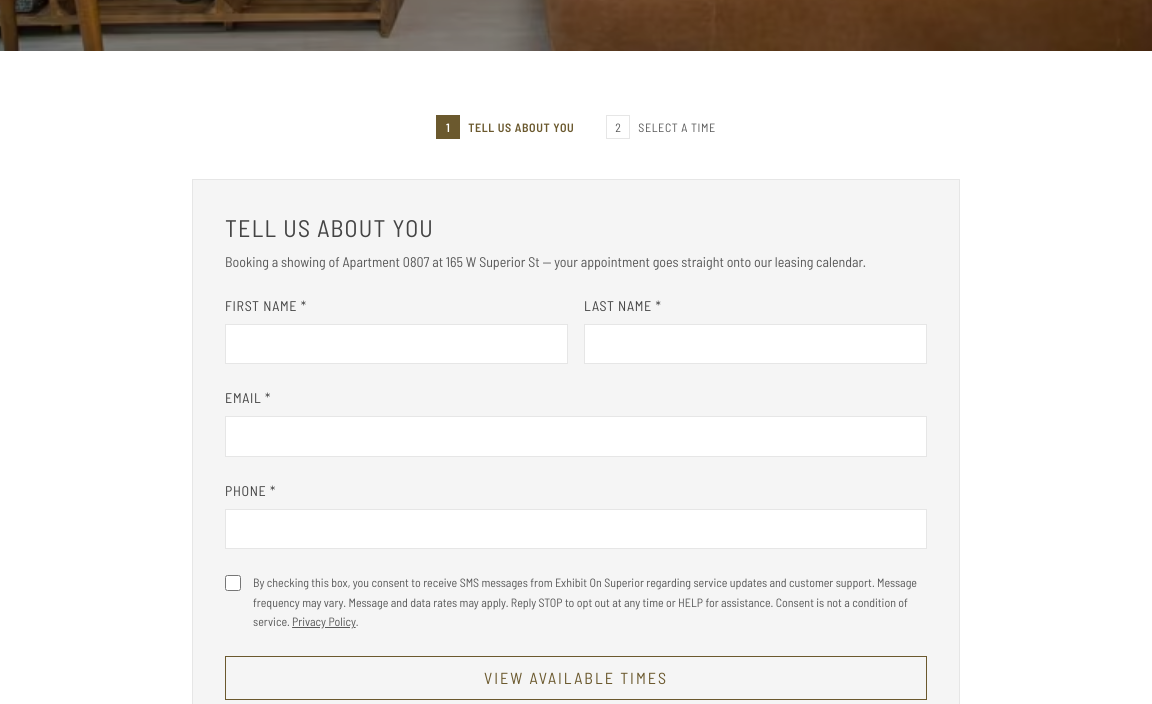
ScheduleShowing later booking steps label-in-name (WCAG 2.5.3) › unit gone — no-longer-available notice
(page scrolled)
In the field labelled "First Name *": (396,344) left=225, top=324, right=568, bottom=364, type "Ada"
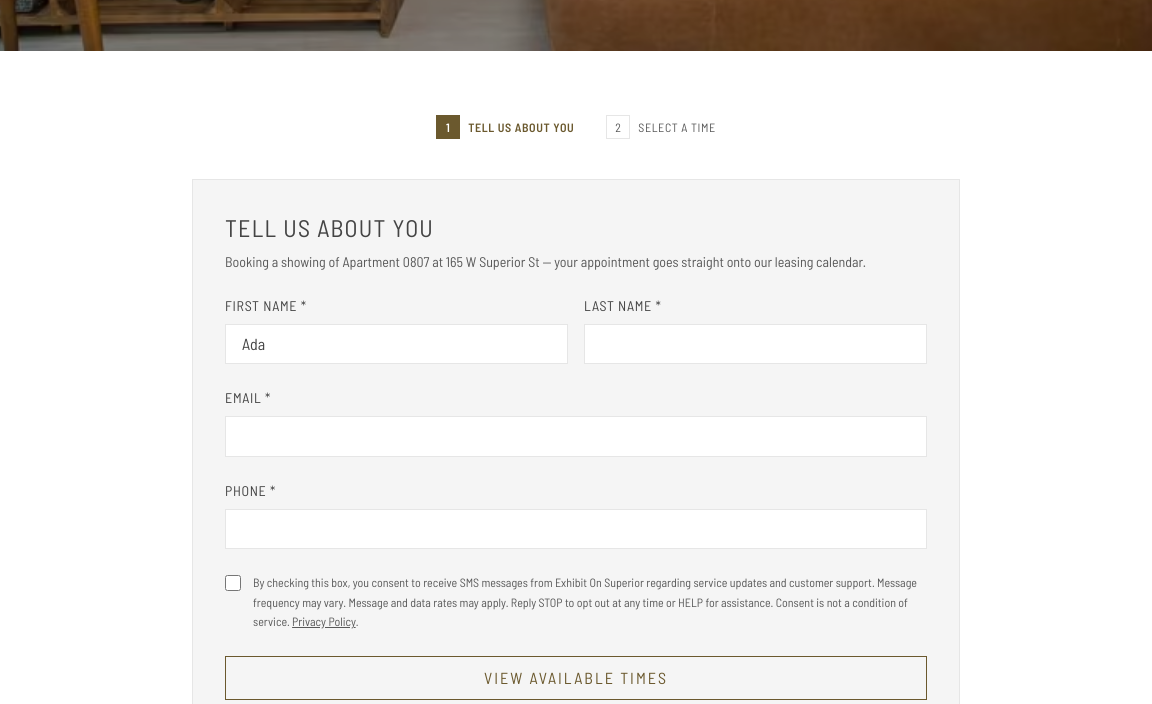
In the field labelled "Last Name *": (756,344) left=584, top=324, right=927, bottom=364, type "Lovelace"
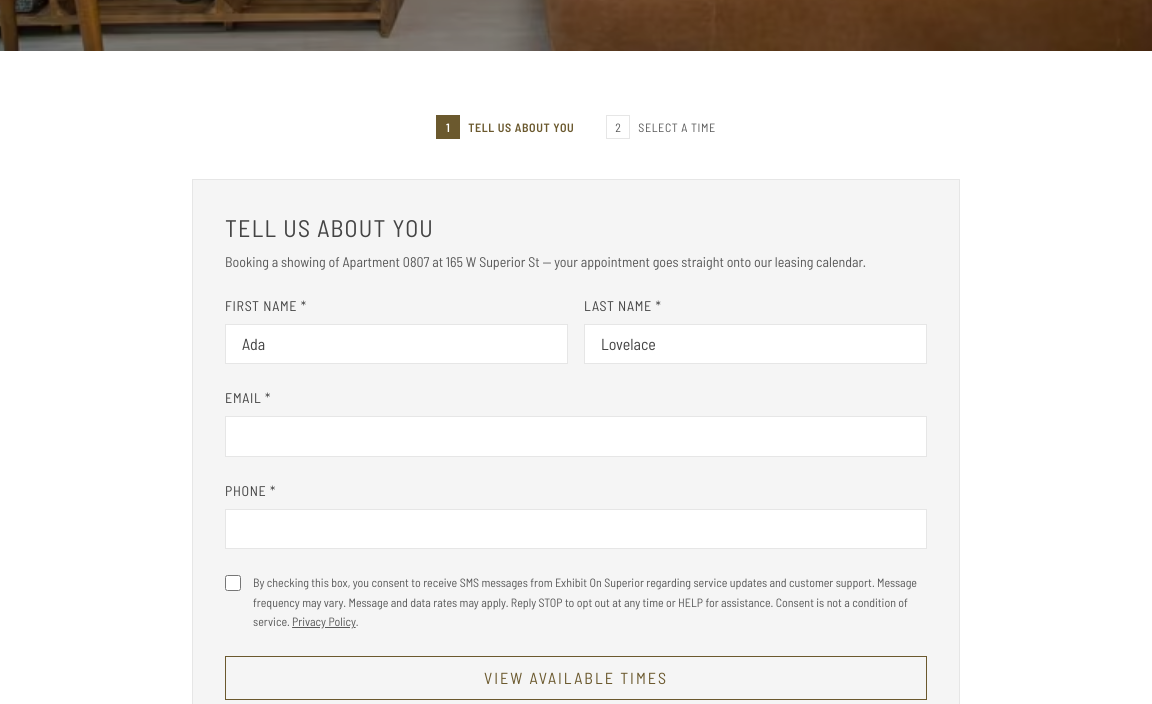
In the field labelled "Email *": (576,437) left=225, top=416, right=927, bottom=457, type "ada@example.com"
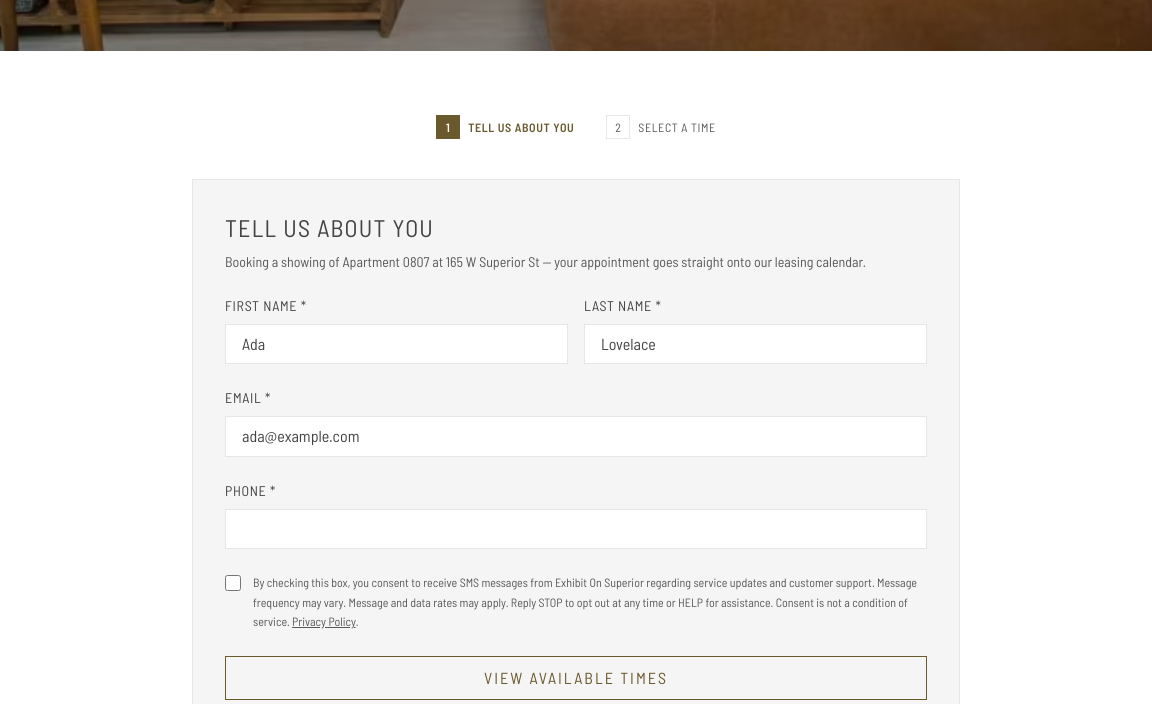
In the field labelled "Phone *": (576,529) left=225, top=509, right=927, bottom=549, type "3125550123"
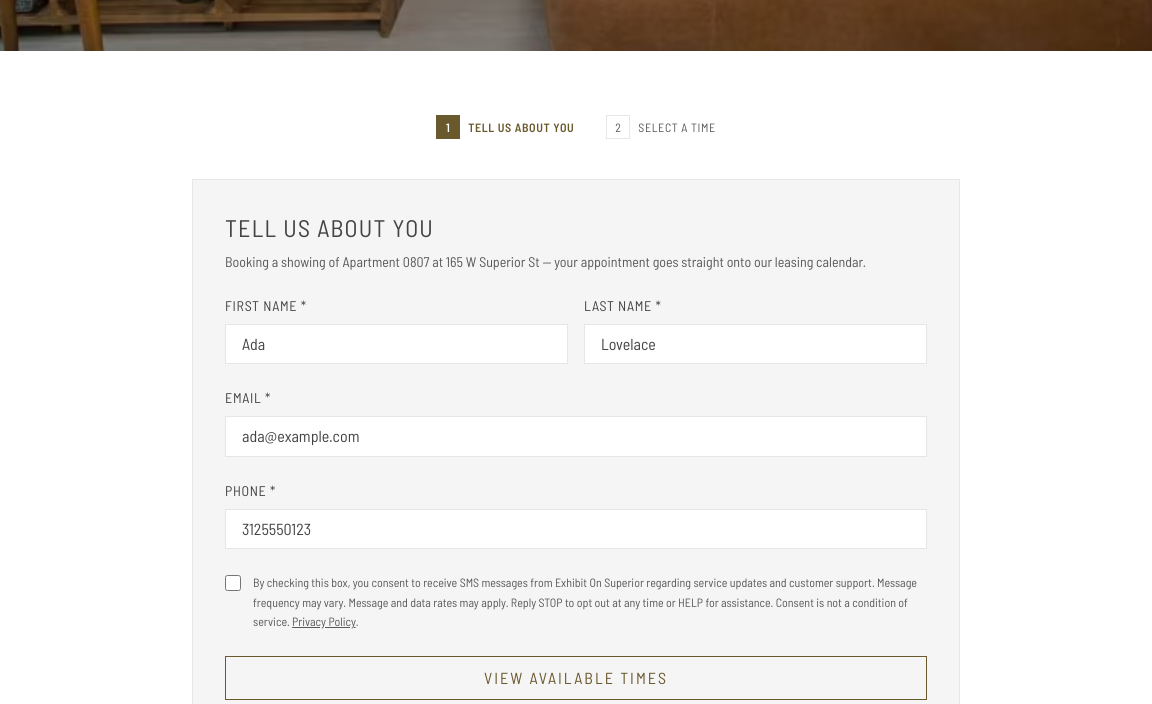
Click the button "View Available Times": (576,678) left=225, top=656, right=927, bottom=700
(page scrolled)
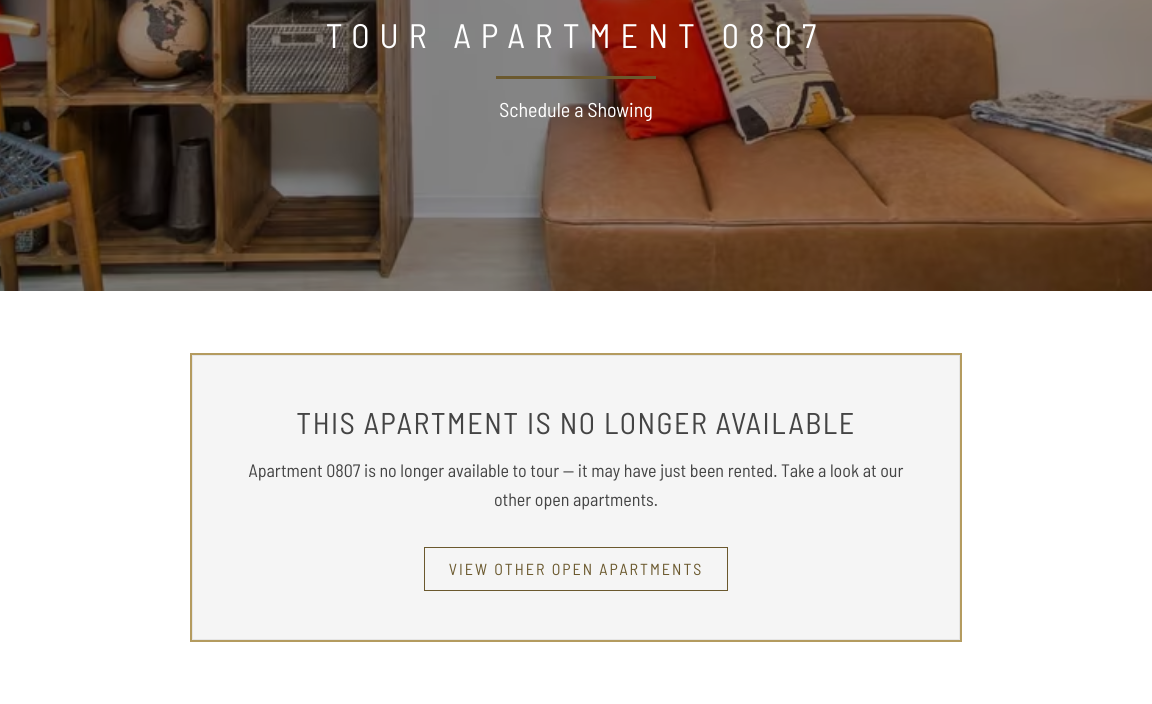
Result: the heading "This Apartment Is No Longer Available" is shown at left=296, top=404, right=856, bottom=440
